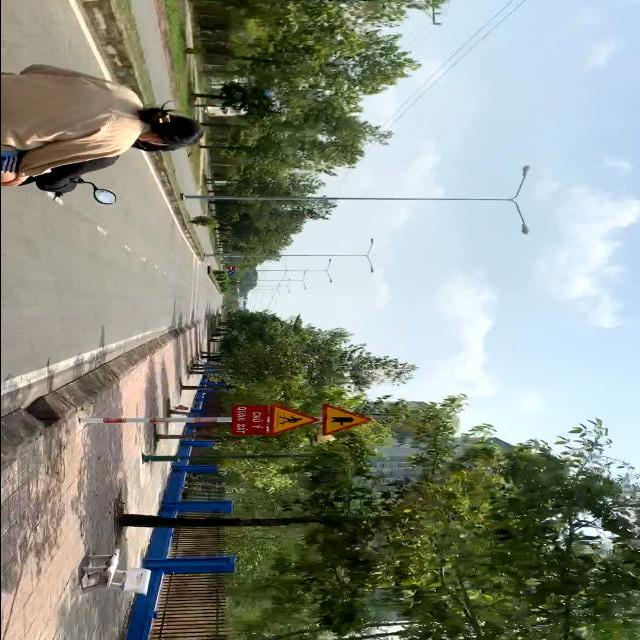W-207b: (318, 401, 371, 437)
W-224: (266, 401, 316, 439)
